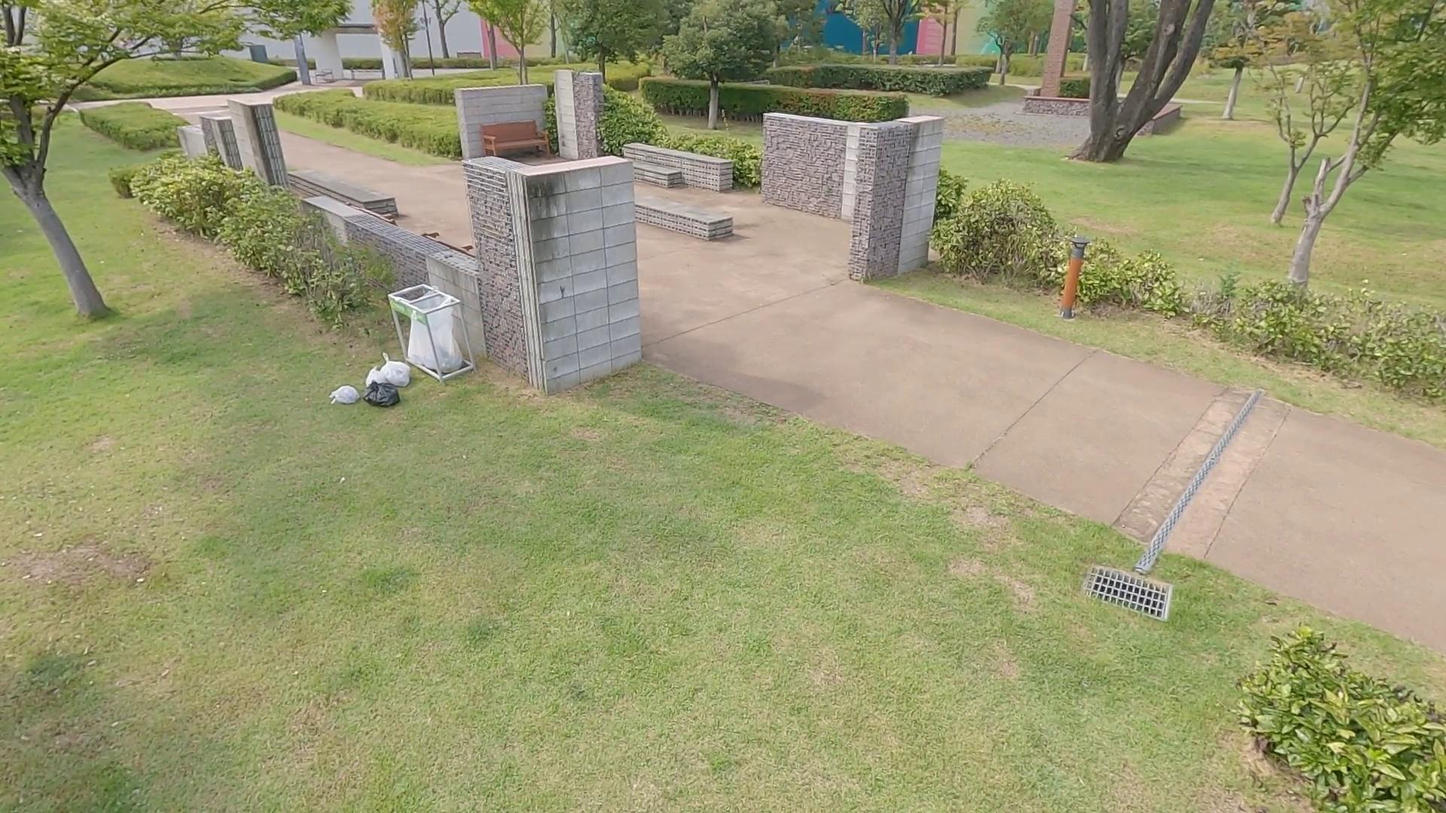trash: (382, 352, 418, 391), (325, 379, 361, 410), (368, 379, 400, 408), (361, 363, 385, 385)
